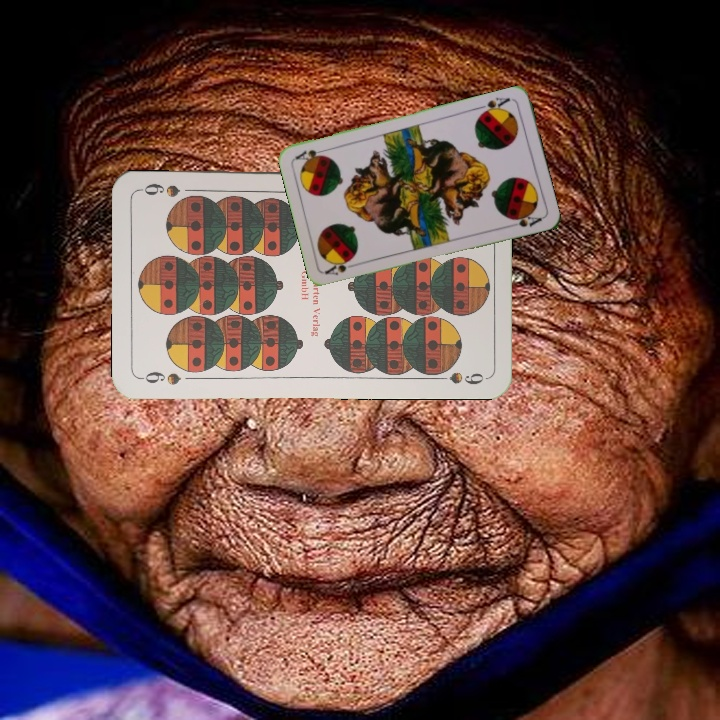S9: (136, 367, 183, 387)
SA: (474, 93, 513, 118), (321, 255, 362, 278)
